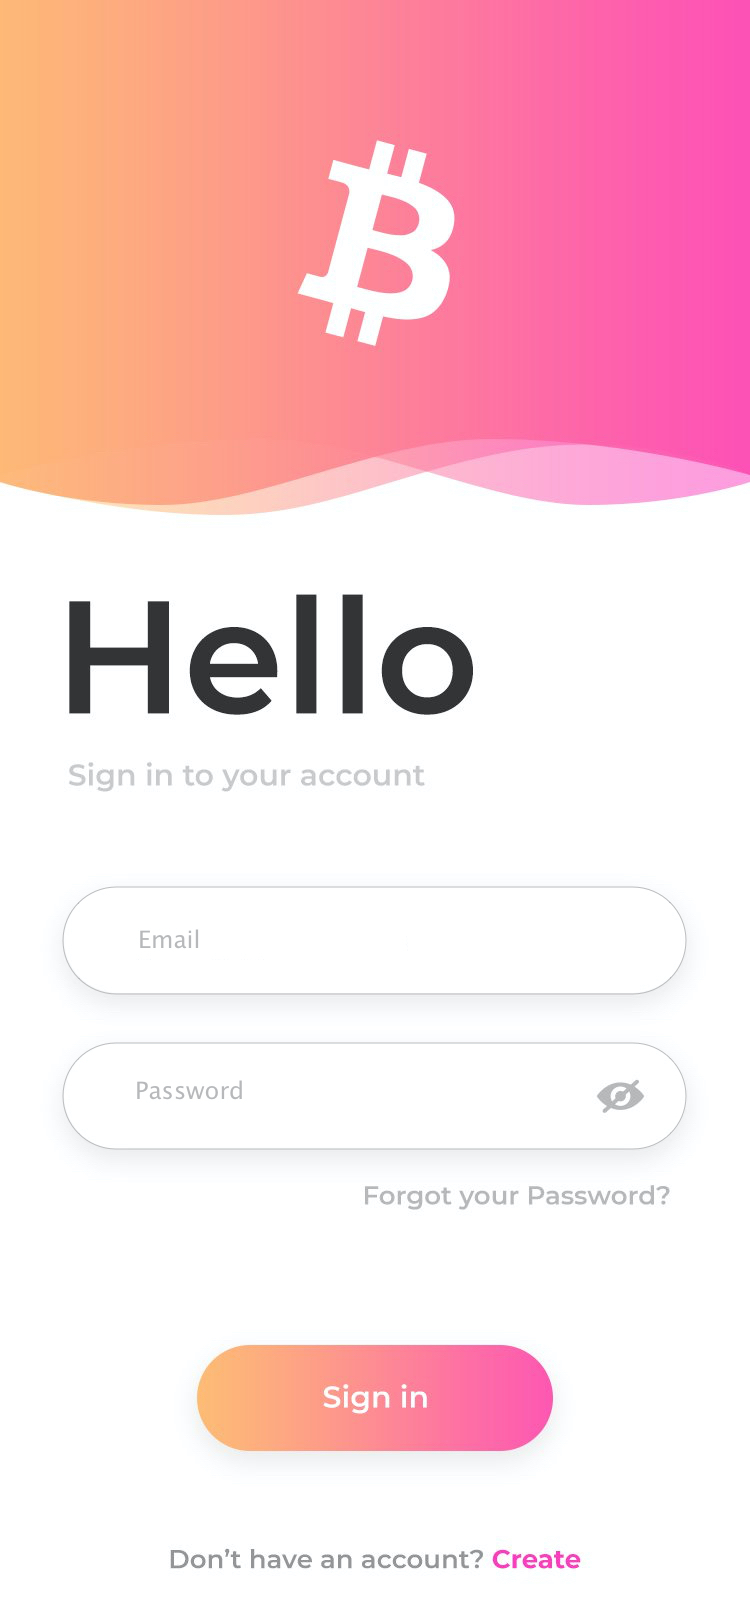EditText: (63, 886, 687, 996), (62, 1042, 688, 1150)
Icon: (596, 1079, 645, 1114)
Image: (297, 140, 456, 348)
Text: (69, 594, 475, 716), (69, 761, 427, 794), (170, 1547, 581, 1573), (364, 1183, 671, 1212), (137, 1080, 243, 1100), (140, 929, 199, 950)
TextButton: (197, 1344, 554, 1452)
